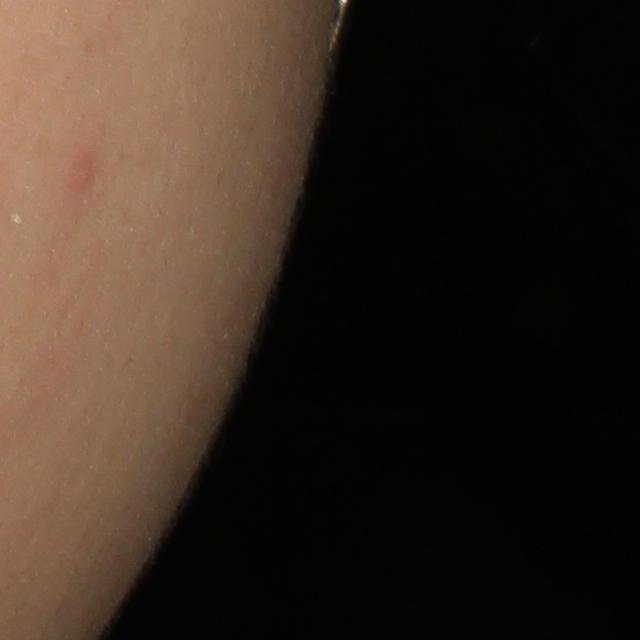papule: (60, 143, 99, 197)
